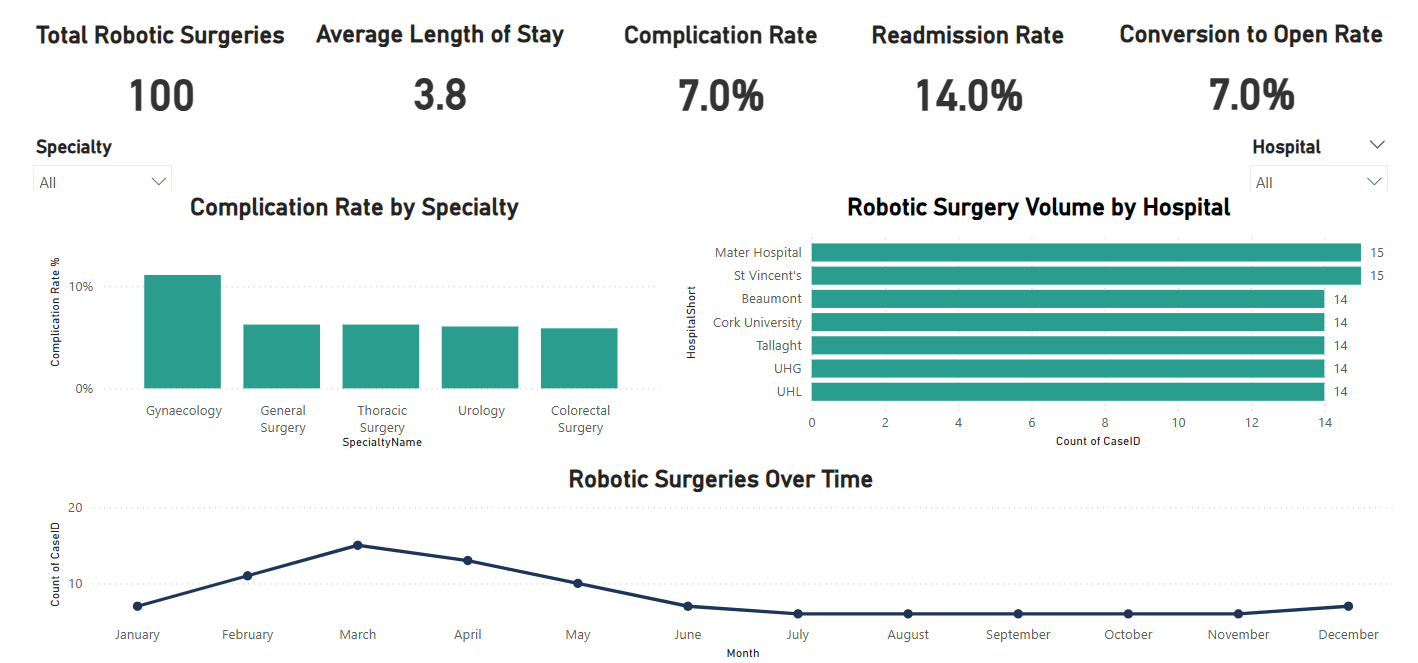

What the dashboard file says about the page in this screenshot:
{"tool":"powerbi","page":{"name":"Executive Overview","canvas":[1280,600],"ordinal":0},"visuals":[{"type":"advanceCardE03760C5AB684758B56AA29F9E6C257B","title":"Total Robotic Surgeries","fields":{"mainMeasure":["CountNonNull(robotic_surgery_dashboard_dataset.CaseID)"]},"box":[20.2,20.2,250.2,109.9],"z":0},{"type":"advanceCardE03760C5AB684758B56AA29F9E6C257B","title":"Average Length of Stay","fields":{"mainMeasure":["Avg(robotic_surgery_dashboard_dataset.LengthOfStayDays)"]},"box":[278.9,19,236.3,109.9],"z":1000},{"type":"advanceCardE03760C5AB684758B56AA29F9E6C257B","title":"Readmission Rate","fields":{"mainMeasure":["robotic_surgery_dashboard_dataset.Readmission Rate %"]},"box":[714.3,19.8,239.8,110],"z":2000},{"type":"advanceCardE03760C5AB684758B56AA29F9E6C257B","title":"Conversion to Open Rate","fields":{"mainMeasure":["robotic_surgery_dashboard_dataset.Conversion to Open Rate %"],"tooltipMeasures":["robotic_surgery_dashboard_dataset.Conversion to Open Rate %"]},"box":[936.2,18.8,343.8,110],"z":3000},{"type":"clusteredBarChart","title":"Robotic Surgery Volume by Hospital","fields":{"Y":["CountNonNull(robotic_surgery_dashboard_dataset.CaseID)"],"Category":["robotic_surgery_dashboard_dataset.HospitalShort"]},"box":[613,175,647,234],"z":4000},{"type":"clusteredColumnChart","title":"Complication Rate by Specialty","fields":{"Category":["robotic_surgery_dashboard_dataset.SpecialtyName"],"Y":["robotic_surgery_dashboard_dataset.Complication Rate %"]},"box":[40,175,560,235],"z":5000},{"type":"lineChart","title":"Robotic Surgeries Over Time","fields":{"Y":["CountNonNull(robotic_surgery_dashboard_dataset.CaseID)"],"Category":["robotic_surgery_dashboard_dataset.SurgeryDate.Variation.Date Hierarchy.Month"]},"box":[40,420,1220,180],"z":6000},{"type":"slicer","fields":{"Values":["robotic_surgery_dashboard_dataset.HospitalName"]},"box":[1115.6,118.8,145.3,55.6],"z":7000},{"type":"slicer","fields":{"Values":["robotic_surgery_dashboard_dataset.SpecialtyName"]},"box":[20.2,118.8,145.3,55.6],"z":8000},{"type":"advanceCardE03760C5AB684758B56AA29F9E6C257B","title":"Complication Rate","fields":{"mainMeasure":["robotic_surgery_dashboard_dataset.Complication Rate %"]},"box":[514.2,19.8,200.1,110],"z":9000}]}

Visuals, with their boxes in screenshot pixels (x1, y1, x2, y2), scaled from the page's 1280x600 canvas onto the 1418x663 screenshot:
"Total Robotic Surgeries" advanceCardE03760C5AB684758B56AA29F9E6C257B: (22, 22, 300, 144)
"Average Length of Stay" advanceCardE03760C5AB684758B56AA29F9E6C257B: (309, 21, 571, 142)
"Readmission Rate" advanceCardE03760C5AB684758B56AA29F9E6C257B: (791, 22, 1057, 143)
"Conversion to Open Rate" advanceCardE03760C5AB684758B56AA29F9E6C257B: (1037, 21, 1417, 142)
"Robotic Surgery Volume by Hospital" clusteredBarChart: (679, 193, 1396, 452)
"Complication Rate by Specialty" clusteredColumnChart: (44, 193, 665, 453)
"Robotic Surgeries Over Time" lineChart: (44, 464, 1396, 662)
slicer - robotic_surgery_dashboard_dataset.HospitalName: (1236, 131, 1397, 193)
slicer - robotic_surgery_dashboard_dataset.SpecialtyName: (22, 131, 183, 193)
"Complication Rate" advanceCardE03760C5AB684758B56AA29F9E6C257B: (570, 22, 791, 143)
